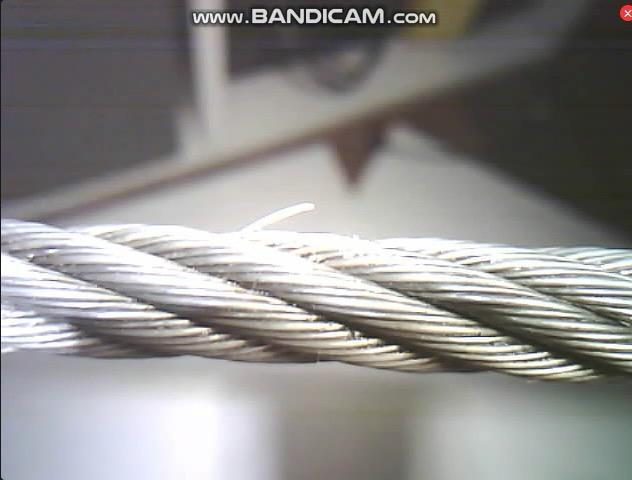break: (222, 184, 318, 245)
